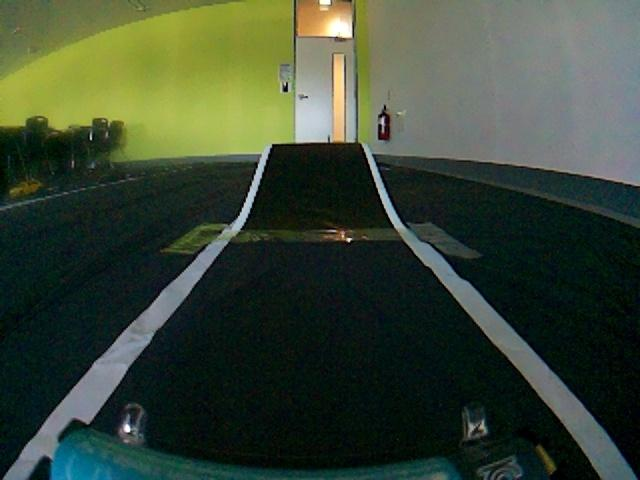go: (17, 251, 634, 480)
hill_up: (225, 145, 444, 248)
